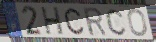2: (21, 5, 43, 37)
C: (105, 8, 128, 37), (64, 7, 86, 36)
H: (41, 6, 65, 36)
O: (126, 8, 149, 38)
R: (82, 6, 109, 37)
